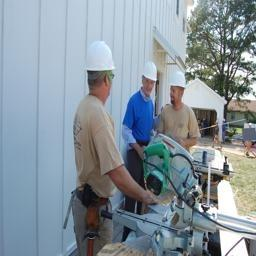hat: (72, 34, 126, 81), (164, 62, 199, 107), (136, 56, 163, 98)
no vest: (69, 90, 132, 215), (122, 80, 162, 183), (158, 98, 202, 170)
